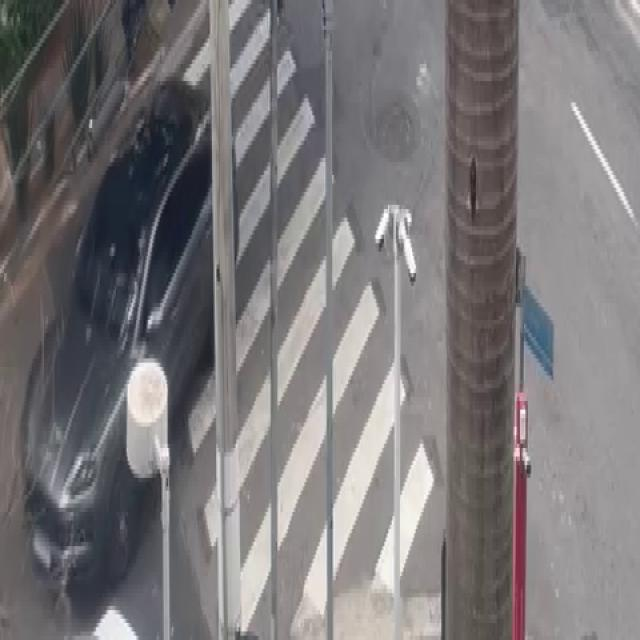car: (14, 128, 261, 612)
